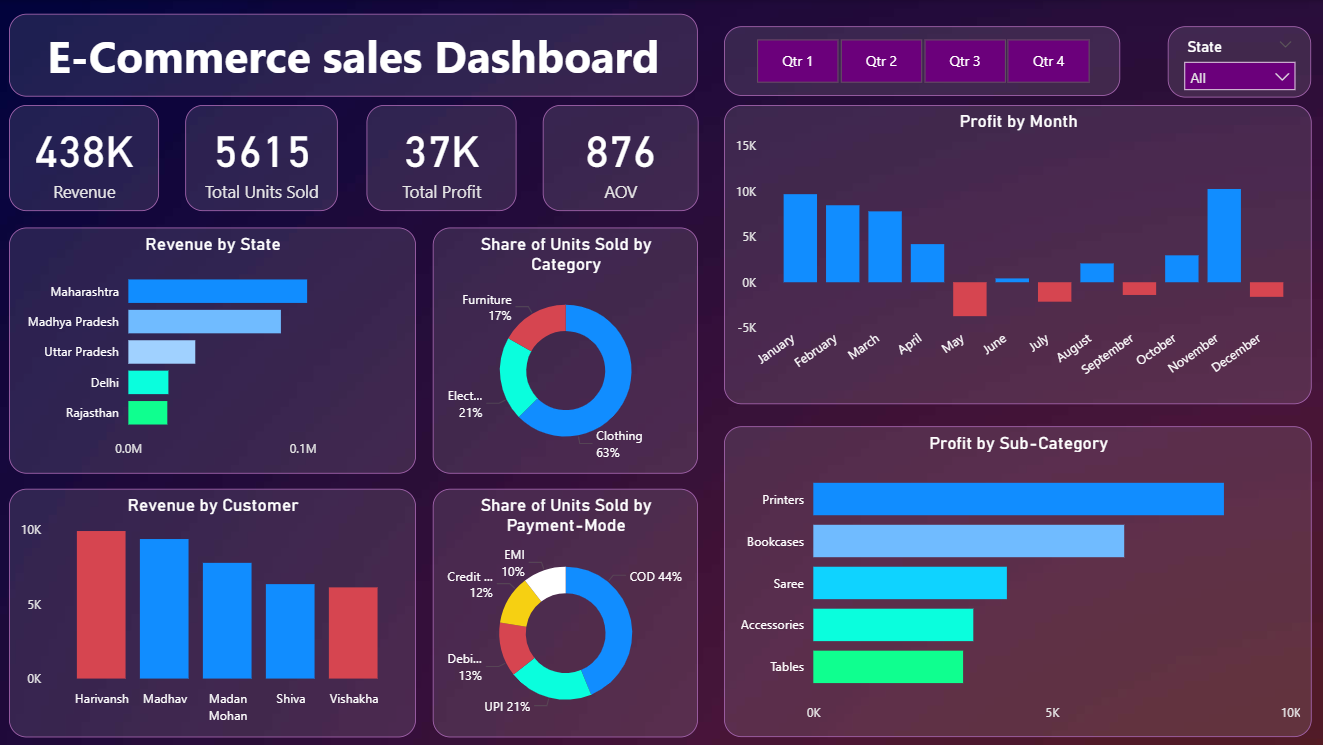

What the dashboard file says about the page in this screenshot:
{"tool":"powerbi","page":{"name":"Page 1","canvas":[1280,720],"ordinal":0},"visuals":[{"type":"textbox","box":[10,13.8,665,80],"z":0},{"type":"columnChart","title":"Profit by Month","fields":{"Y":["Sum(Details.Profit)"],"Category":["Orders.Order Date.Variation.Date Hierarchy.Month"]},"box":[700,101.2,567.5,288.8],"z":1000},{"type":"barChart","title":"Profit by Sub-Category","fields":{"Category":["Details.Sub-Category"],"Y":["Sum(Details.Profit)"]},"box":[700,411.2,567.5,300],"z":2000},{"type":"donutChart","title":"Share of Units Sold by Category","fields":{"Category":["Details.Category"],"Y":["Sum(Details.Quantity)"]},"box":[418.8,220,256.2,237.5],"z":3000},{"type":"donutChart","title":"Share of Units Sold by Payment-Mode","fields":{"Category":["Details.PaymentMode","Details.Category"],"Y":["Sum(Details.Quantity)"]},"box":[418.8,471.2,256.2,240],"z":4000},{"type":"card","title":"Total Revenue","fields":{"Values":["Details.Revenue"]},"box":[10,101.2,145,102.5],"z":5000},{"type":"card","fields":{"Values":["Details.Total Units Sold"]},"box":[180,101.2,147.5,102.5],"z":6000},{"type":"card","fields":{"Values":["Details.Total Profit"]},"box":[355,101.2,145,102.5],"z":7000},{"type":"card","fields":{"Values":["Details.Average Order Value"]},"box":[525,101.2,150,102.5],"z":8000},{"type":"clusteredBarChart","title":"Revenue by State","fields":{"Category":["Orders.State"],"Y":["Sum(Details.Amount)"]},"box":[10,220,392.5,237.5],"z":9000},{"type":"columnChart","title":"Revenue by Customer","fields":{"Category":["Orders.CustomerName"],"Y":["Sum(Details.Amount)"]},"box":[10,471.2,392.5,240],"z":10000},{"type":"slicer","fields":{"Values":["Orders.Order Date.Variation.Date Hierarchy.Quarter"]},"box":[699.7,25.3,382.4,67.6],"z":11000},{"type":"slicer","fields":{"Values":["Orders.State"]},"box":[1128,25.3,138.7,68.8],"z":12000}]}

Visuals, with their boxes in screenshot pixels (x1, y1, x2, y2), scaled from the page's 1280x720 canvas onto the 1323x745 screenshot:
textbox: {"left": 10, "top": 14, "right": 698, "bottom": 97}
"Profit by Month" columnChart: {"left": 724, "top": 105, "right": 1310, "bottom": 404}
"Profit by Sub-Category" barChart: {"left": 724, "top": 425, "right": 1310, "bottom": 736}
"Share of Units Sold by Category" donutChart: {"left": 433, "top": 228, "right": 698, "bottom": 473}
"Share of Units Sold by Payment-Mode" donutChart: {"left": 433, "top": 488, "right": 698, "bottom": 736}
"Total Revenue" card: {"left": 10, "top": 105, "right": 160, "bottom": 211}
card - Details.Total Units Sold: {"left": 186, "top": 105, "right": 339, "bottom": 211}
card - Details.Total Profit: {"left": 367, "top": 105, "right": 517, "bottom": 211}
card - Details.Average Order Value: {"left": 543, "top": 105, "right": 698, "bottom": 211}
"Revenue by State" clusteredBarChart: {"left": 10, "top": 228, "right": 416, "bottom": 473}
"Revenue by Customer" columnChart: {"left": 10, "top": 488, "right": 416, "bottom": 736}
slicer - Orders.Order Date.Variation.Date Hierarchy.Quarter: {"left": 723, "top": 26, "right": 1118, "bottom": 96}
slicer - Orders.State: {"left": 1166, "top": 26, "right": 1309, "bottom": 97}
